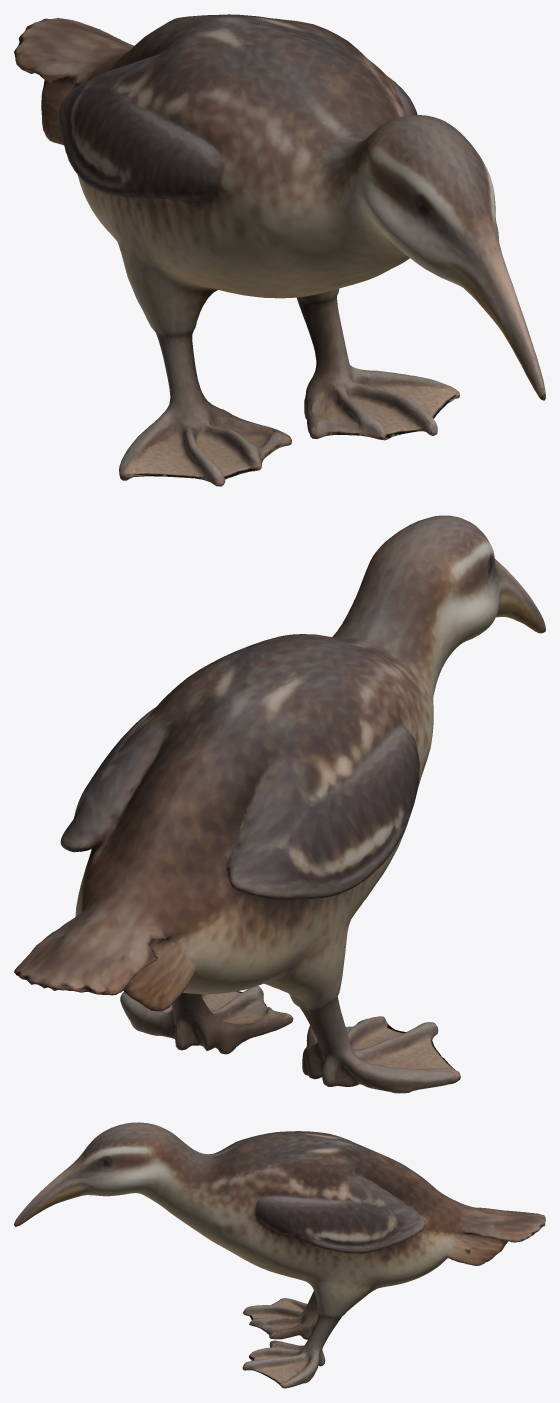
The picture shows the model from 3 angles, top to bottom: view 1: azimuth 30°, elevation 25°; view 2: azimuth 150°, elevation 25°; view 3: azimuth 270°, elevation 25°; orthographic projection. The views are drawn at different scales.
Visible parts, largest first — view 1: world; view 2: world; view 3: world.
Boxes of the visible parts, bbox=[...] form: world: bbox=[14, 14, 545, 486]; world: bbox=[14, 515, 545, 1093]; world: bbox=[14, 1122, 545, 1388].
Bounding box in the file's own units: 0.2141 × 0.2571 × 0.55.
Materials: 1 (1 with a texture image).
